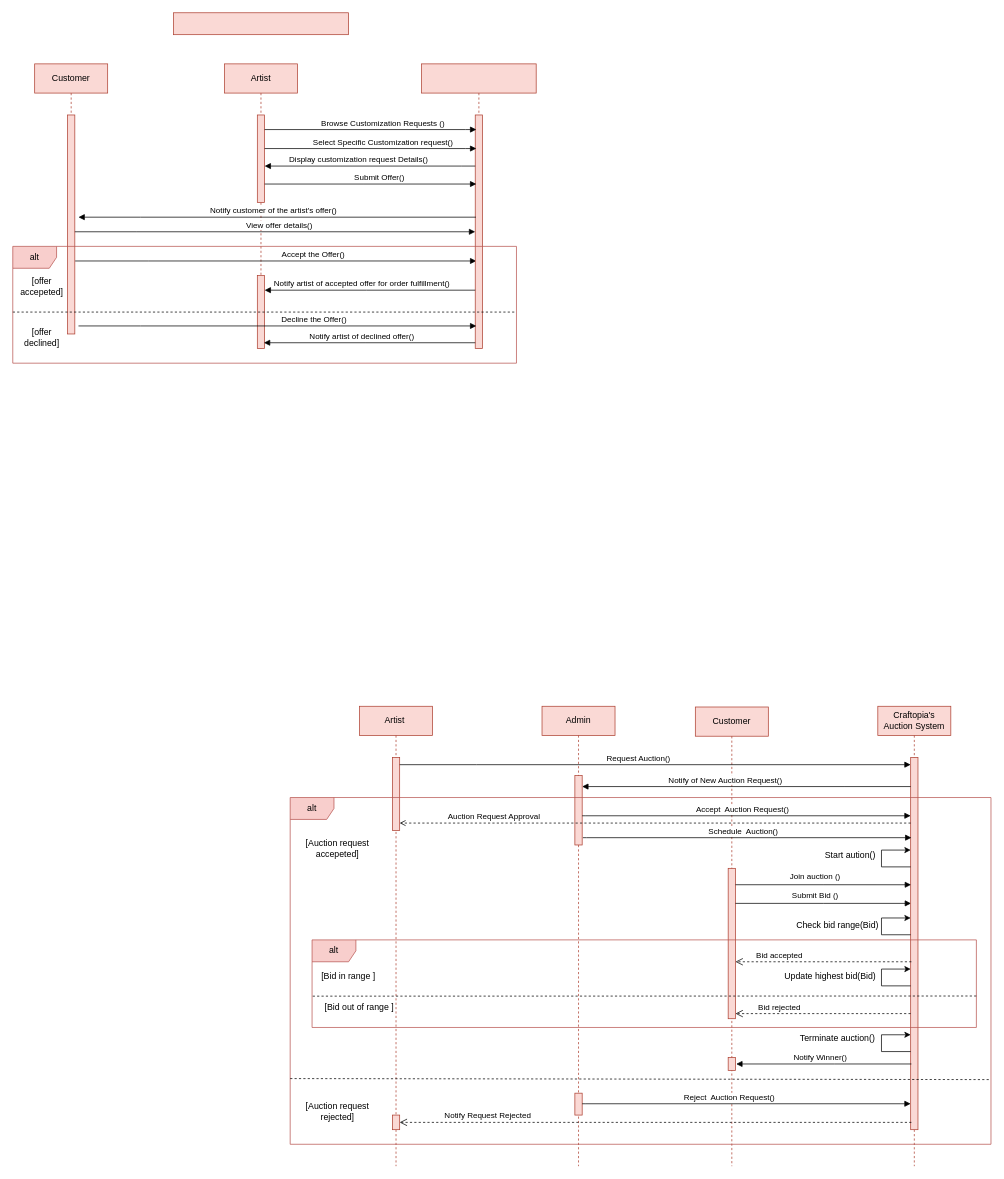
Some shapes in this 1004 by 1179 pixel diagram are drawn without their labels. Each missing label, with the box of its shape:
Craftopia Customization Request System: (421, 63, 536, 341)
Cratopia's Customization Request Scenerio: (173, 12, 349, 35)
